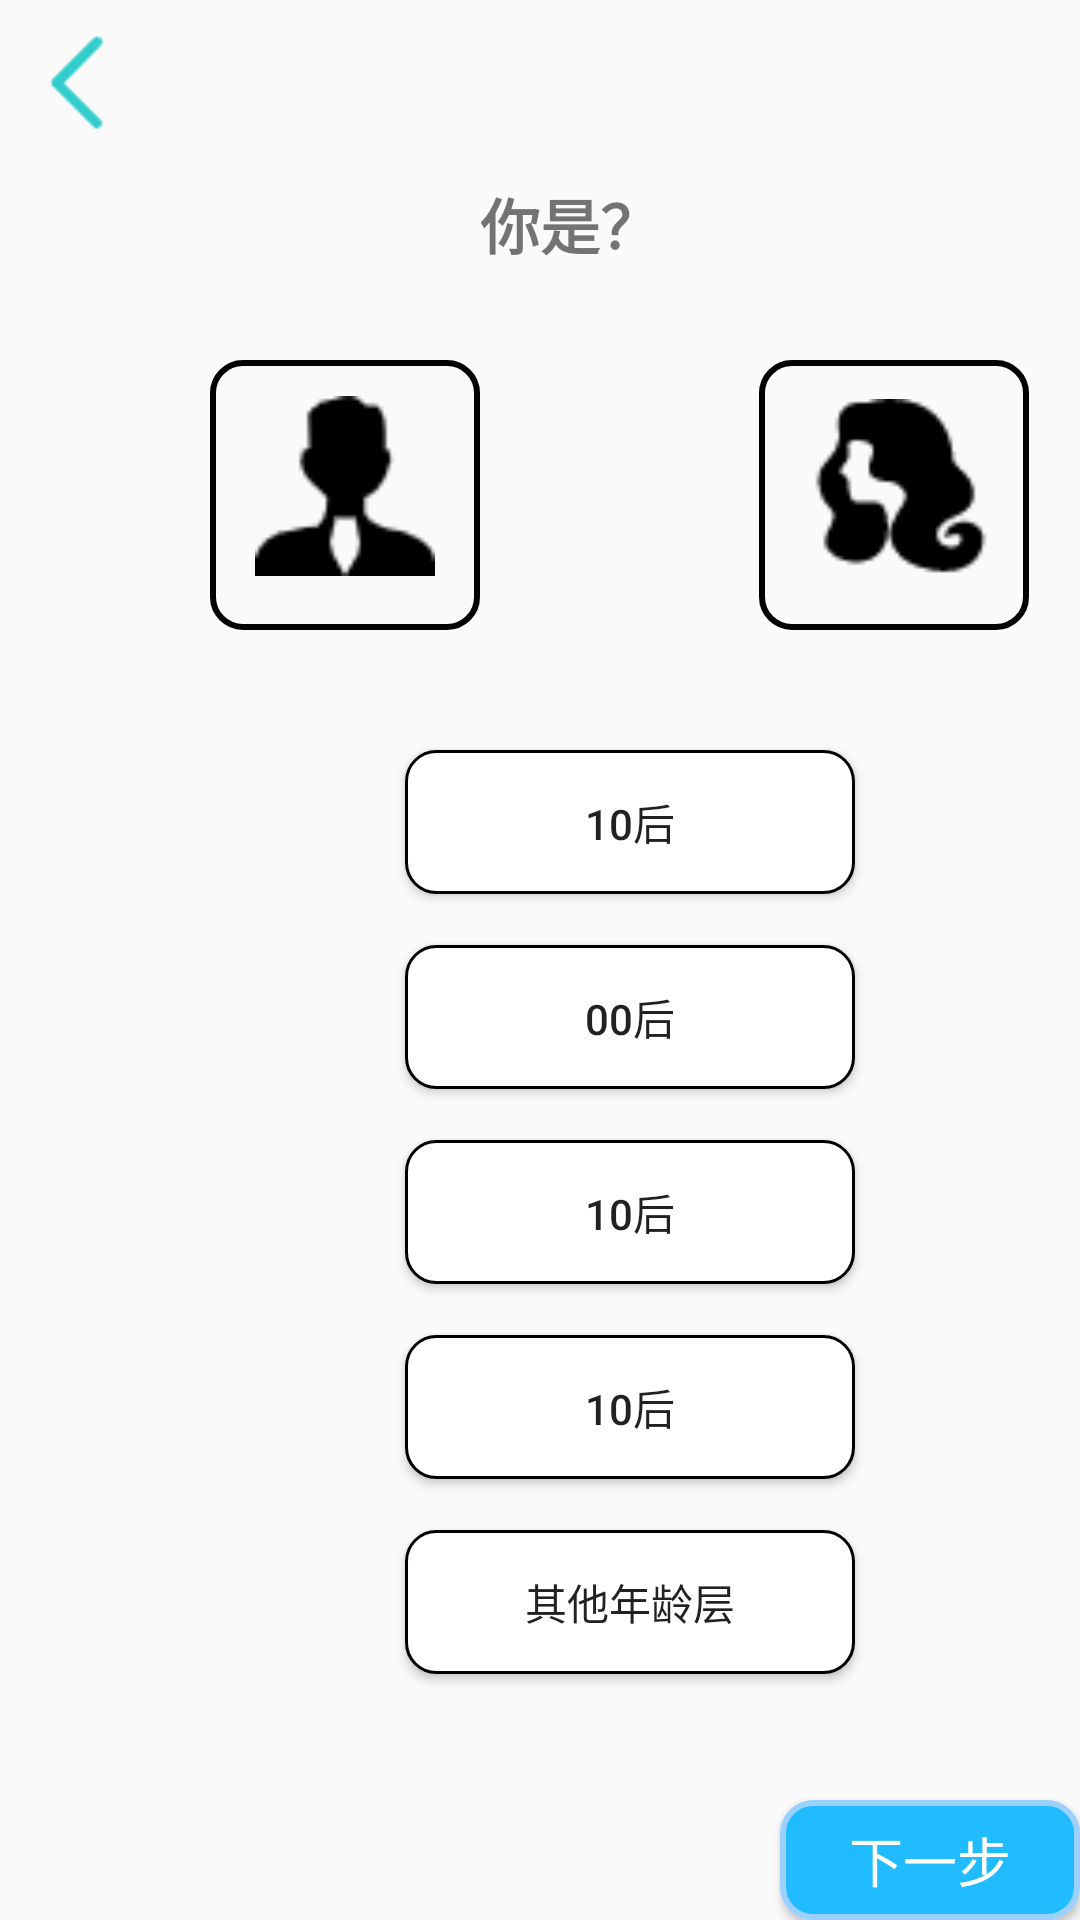

Named icons in this screenshot (1080px×1920px) and their bounding boxes, (x1, y1, x2, y2):
back: (51, 36, 104, 129)
man: (255, 396, 435, 576)
woman: (816, 399, 986, 573)
